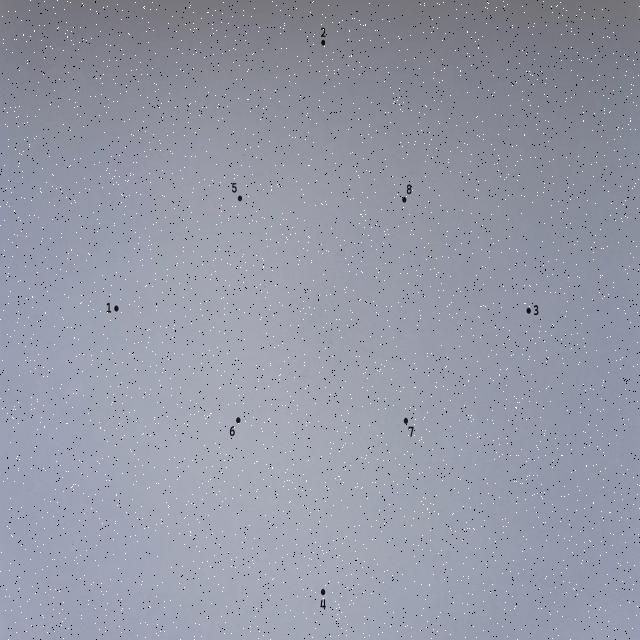Dot: (236, 416, 241, 424), (320, 589, 326, 595), (114, 305, 119, 312), (402, 197, 407, 203), (404, 417, 408, 424), (527, 308, 531, 314), (238, 196, 242, 202), (321, 40, 325, 45)
DotNumber: (232, 182, 242, 202), (402, 184, 412, 203), (404, 418, 414, 437), (230, 417, 240, 436), (526, 304, 539, 316), (106, 302, 119, 314), (321, 588, 326, 610), (321, 27, 326, 46)
Number: (408, 426, 414, 437), (320, 599, 326, 610), (106, 302, 112, 313), (406, 184, 412, 194), (321, 28, 326, 38), (230, 426, 235, 436), (232, 183, 237, 193), (534, 304, 538, 316)
